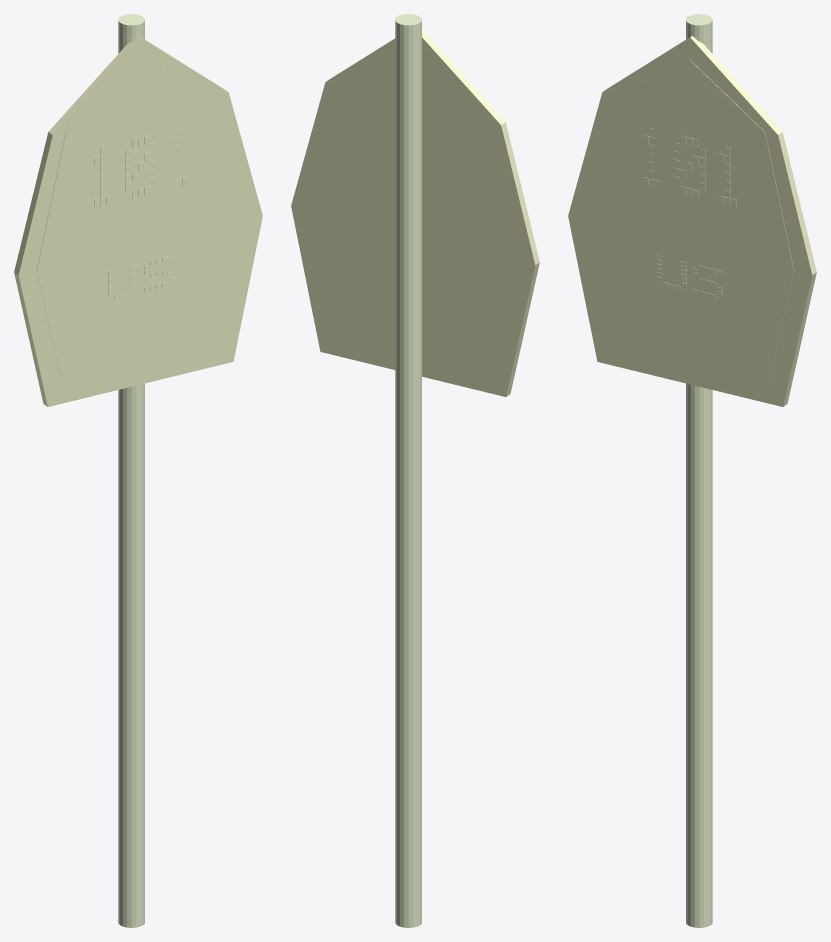
Rendered from sign_route_us_101_shield.glb.
3 views of the same model, side by side, from view 1: azimuth 30°, elevation 25°; view 2: azimuth 150°, elevation 25°; view 3: azimuth 330°, elevation 25° (orthographic).
Visible parts, largest first — view 1: layer_1_00, plate_base_00, pole; view 2: plate_base_00, pole; view 3: layer_1_00, plate_base_00, pole.
Part boxes in pixels (<box>): layer_1_00: <box>36,60,245,381</box>; plate_base_00: <box>14,36,262,406</box>; pole: <box>118,14,144,927</box>; plate_base_00: <box>291,29,539,396</box>; pole: <box>395,14,421,927</box>; layer_1_00: <box>585,60,794,381</box>; plate_base_00: <box>568,36,816,406</box>; pole: <box>686,14,712,927</box>.
Bounding box in the file's own units: 0.6232 × 2.2 × 0.0725.
